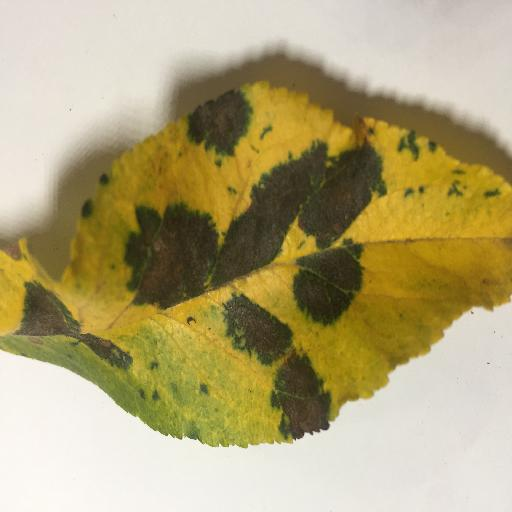Brown_Spot: (219, 163, 300, 277), (31, 283, 121, 369), (308, 151, 376, 232), (141, 211, 204, 293), (293, 248, 352, 317), (219, 293, 273, 359), (273, 364, 323, 426), (192, 108, 256, 146)
